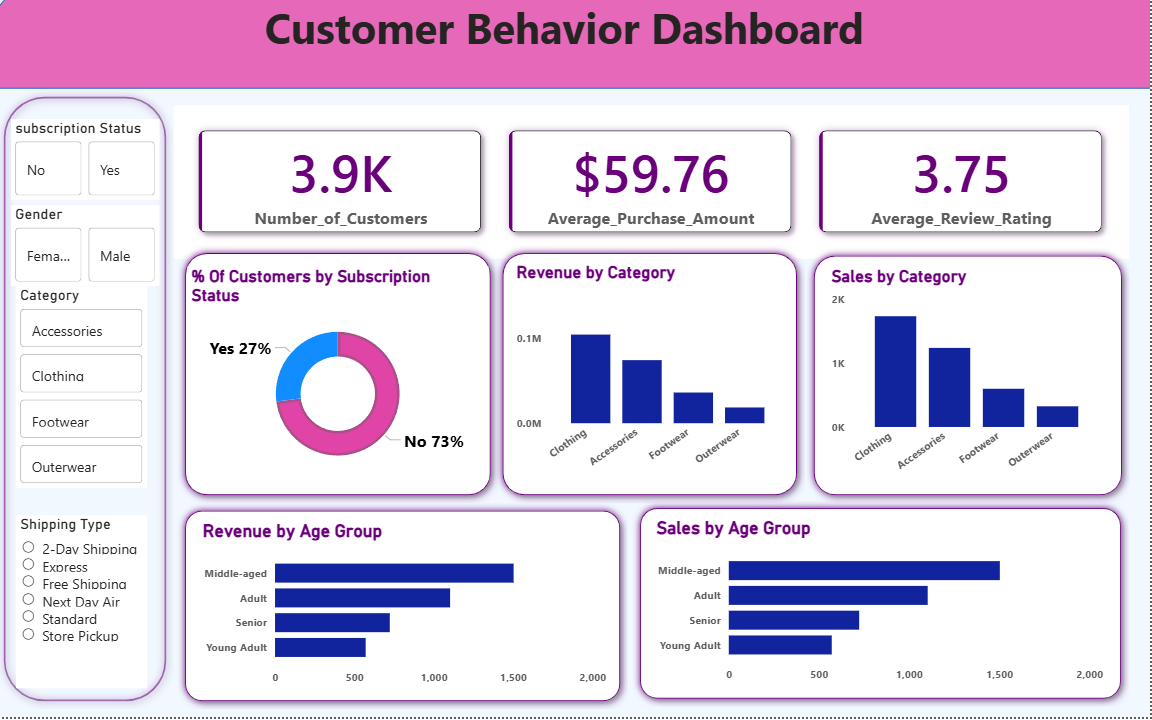

The page's visual inventory and layout, read from the dashboard file:
{"tool":"powerbi","page":{"name":"Page 1","canvas":[1324,830],"ordinal":0},"visuals":[{"type":"cardVisual","fields":{"Data":["customer_analysis customer.Number_of_Customers","customer_analysis customer.Average_Purchase_Amount","customer_analysis customer.Average_Review_Rating"]},"box":[204.3,127.1,1095.7,175.7],"z":0},{"type":"shape","box":[0,0,1500,108.6],"z":1000},{"type":"textbox","box":[0,0,1251,109.1],"z":2000},{"type":"shape","box":[208.6,288.6,368.6,295.7],"z":3000},{"type":"donutChart","title":"% Of Customers by Subscription Status","fields":{"Category":["customer_analysis customer.subscription_status"],"Y":["CountNonNull(customer_analysis customer.customer_id)"]},"box":[220,312.9,345.7,244.3],"z":4000},{"type":"shape","box":[572.9,288.6,355.7,295.7],"z":5000},{"type":"shape","box":[928.6,291.4,371.4,292.9],"z":6000},{"type":"clusteredColumnChart","title":"Revenue by Category","fields":{"Y":["Sum(customer_analysis customer.purchase_amount_usd)"],"Category":["customer_analysis customer.category"]},"box":[592.9,308.6,320,254.3],"z":7000},{"type":"clusteredColumnChart","title":"Sales by Category","fields":{"Y":["CountNonNull(customer_analysis customer.customer_id)"],"Category":["customer_analysis customer.category"]},"box":[954.3,312.9,320,254.3],"z":8000},{"type":"shape","box":[0,108.6,204.3,711.4],"z":9000},{"type":"advancedSlicerVisual","fields":{"Values":["customer_analysis customer.subscription_status"]},"box":[17.1,142.9,170,92.9],"z":10000},{"type":"advancedSlicerVisual","fields":{"Values":["customer_analysis customer.gender"]},"box":[17.1,242.9,170,92.9],"z":11000},{"type":"advancedSlicerVisual","fields":{"Values":["customer_analysis customer.category"]},"box":[22.9,335.7,150,231.4],"z":12000},{"type":"listSlicer","fields":{"Values":["customer_analysis customer.shipping_type"]},"box":[22.9,598.6,150,198.6],"z":13000},{"type":"shape","box":[729.6,580.9,569.5,236.6],"z":15000},{"type":"shape","box":[208.3,583.7,517.1,236.6],"z":16000},{"type":"clusteredBarChart","title":"Revenue by Age Group","fields":{"Category":["customer_analysis customer.age_group"],"Y":["CountNonNull(customer_analysis customer.purchase_amount_usd)"]},"box":[232.3,603.5,473.2,198.3],"z":16002},{"type":"clusteredBarChart","title":"Sales by Age Group","fields":{"Category":["customer_analysis customer.age_group"],"Y":["CountNonNull(customer_analysis customer.customer_id)"]},"box":[752.3,600.7,522.8,198.3],"z":16003}]}

Visuals, with their boxes in screenshot pixels (x1, y1, x2, y2), scaled from the page's 1324x830 canvas onto the 1152x720 screenshot:
cardVisual - customer_analysis customer.Number_of_Customers x customer_analysis customer.Average_Purchase_Amount: 178/110/1131/263
shape: 0/0/1151/94
textbox: 0/0/1088/95
shape: 182/250/502/507
"% Of Customers by Subscription Status" donutChart: 191/271/492/483
shape: 498/250/808/507
shape: 808/253/1131/507
"Revenue by Category" clusteredColumnChart: 516/268/794/488
"Sales by Category" clusteredColumnChart: 830/271/1109/492
shape: 0/94/178/711
advancedSlicerVisual - customer_analysis customer.subscription_status: 15/124/163/205
advancedSlicerVisual - customer_analysis customer.gender: 15/211/163/291
advancedSlicerVisual - customer_analysis customer.category: 20/291/150/492
listSlicer - customer_analysis customer.shipping_type: 20/519/150/692
shape: 635/504/1130/709
shape: 181/506/631/712
"Revenue by Age Group" clusteredBarChart: 202/524/614/696
"Sales by Age Group" clusteredBarChart: 655/521/1109/693
